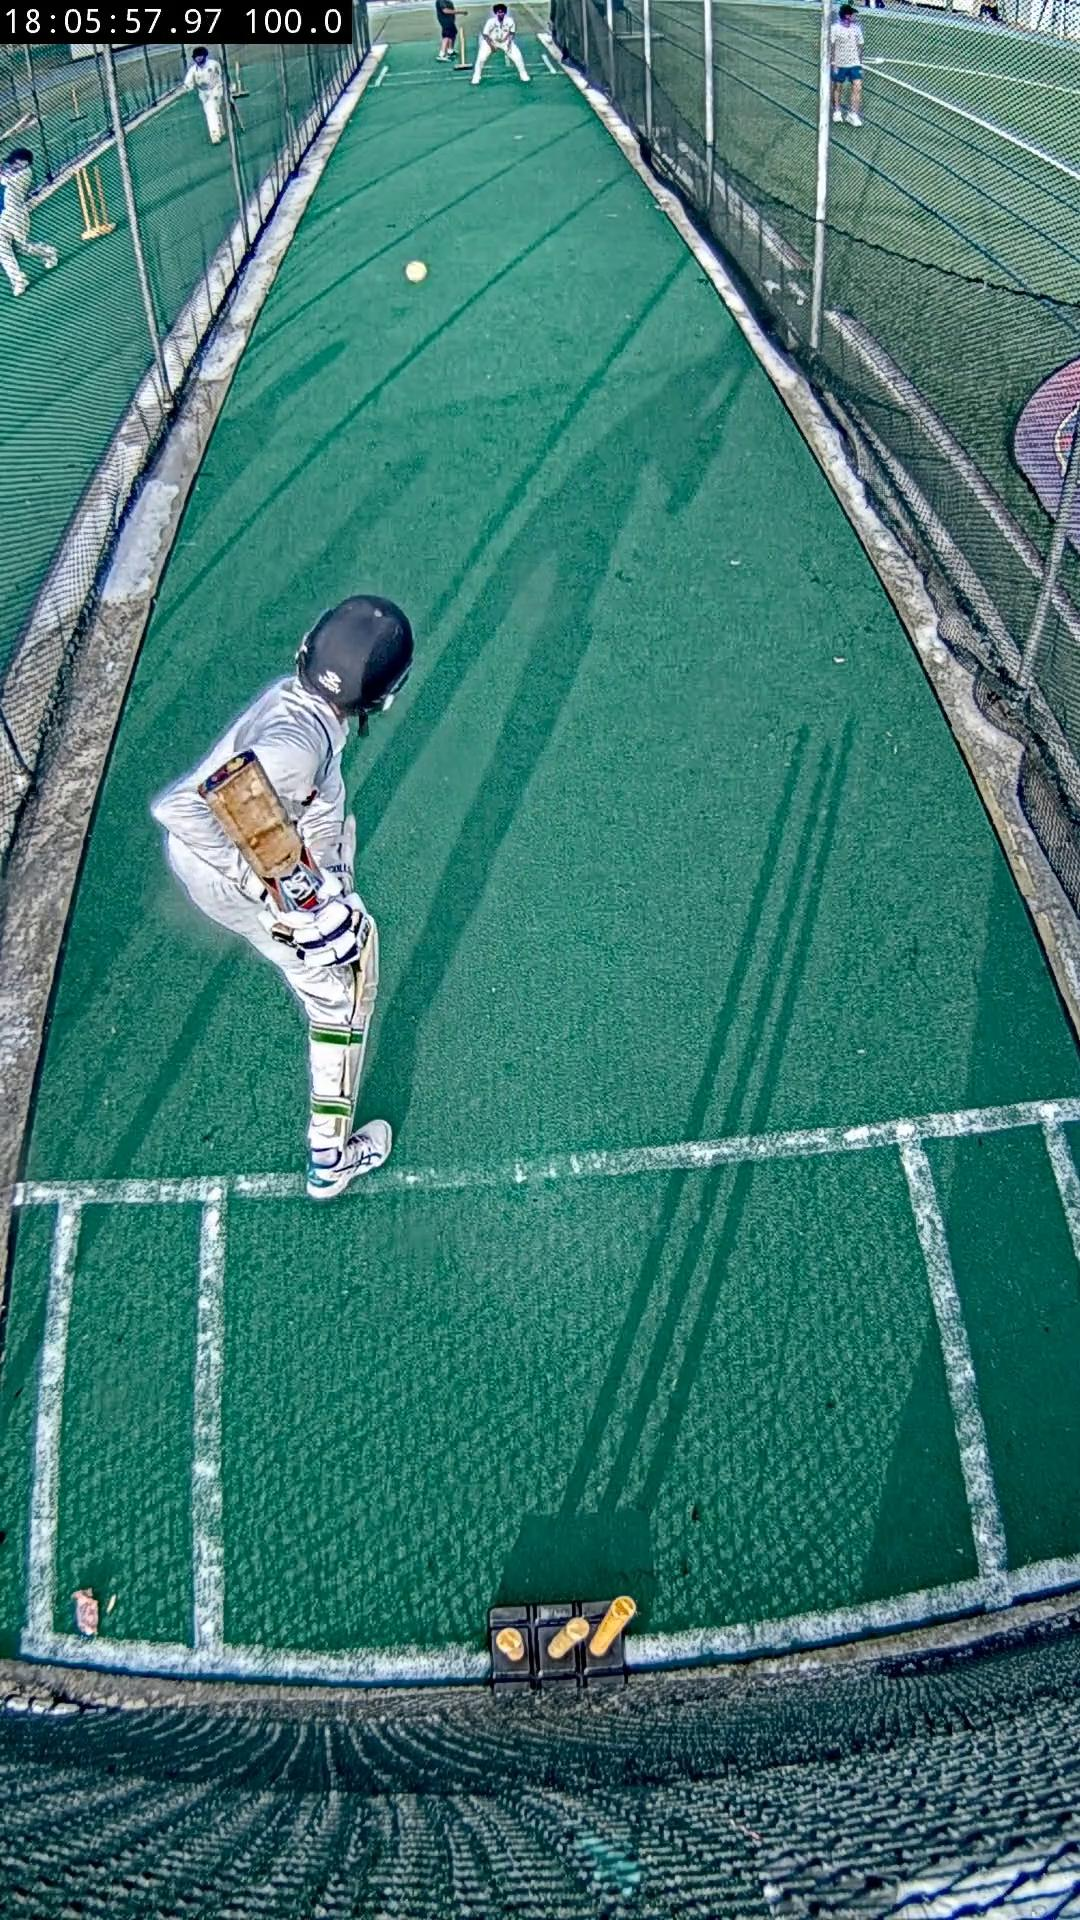ball: (405, 258, 427, 281)
bat: (206, 742, 326, 911)
gloves: (266, 897, 364, 972)
helmet: (297, 592, 413, 721)
pads: (356, 923, 382, 1036)
stumps: (488, 1597, 637, 1688)
